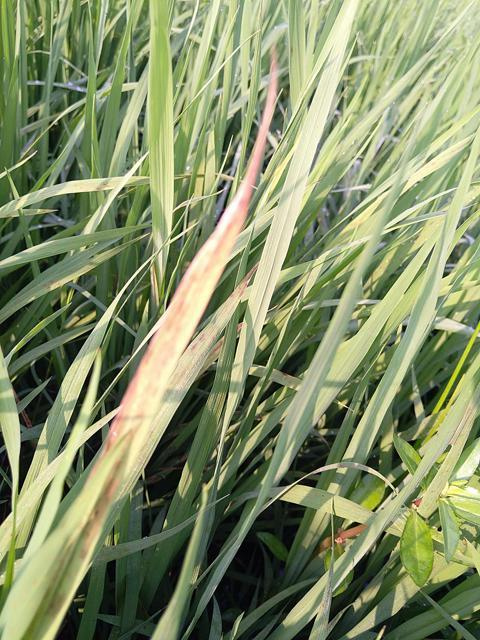Leaf Blight: (73, 44, 278, 560), (144, 263, 259, 440)
